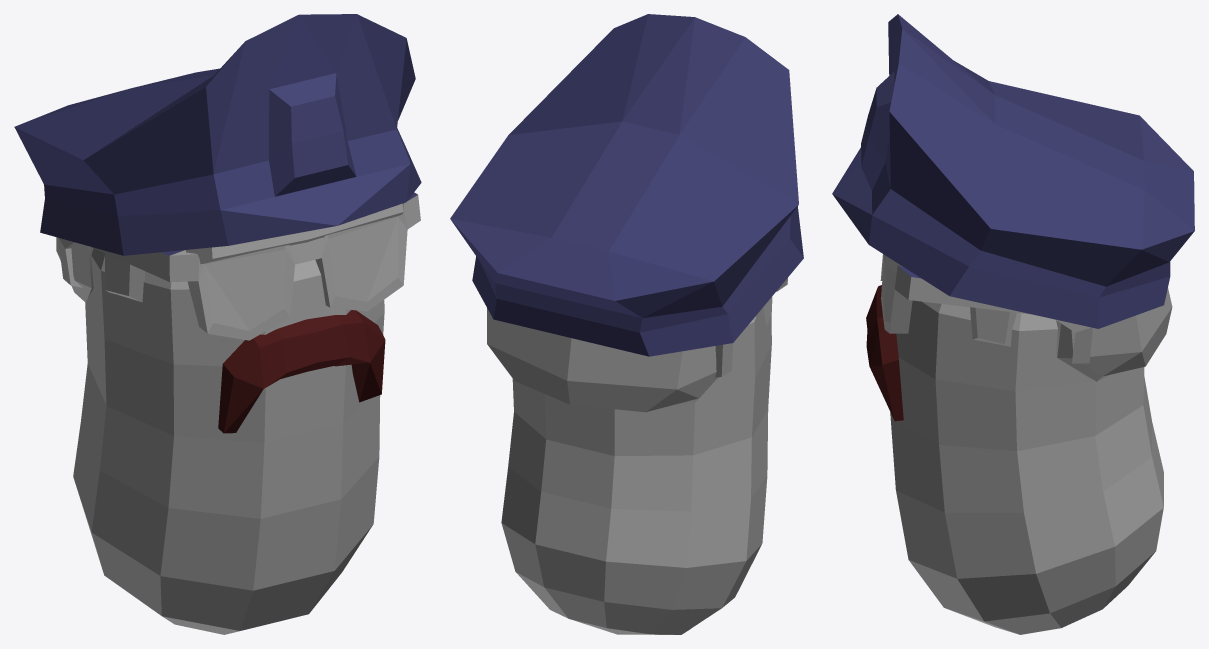
The model's file is cop.fbx.
The picture shows the model from 3 angles, left to right: view 1: azimuth 30°, elevation 25°; view 2: azimuth 150°, elevation 25°; view 3: azimuth 270°, elevation 25°; orthographic projection. The views are drawn at different scales.
Visible parts, largest first — view 1: CapsuleCop; view 2: CapsuleCop; view 3: CapsuleCop.
Part boxes in pixels (x1=…): CapsuleCop: x1=14, y1=14, x2=421, y2=634; CapsuleCop: x1=450, y1=14, x2=803, y2=634; CapsuleCop: x1=832, y1=14, x2=1194, y2=634.
Size of the model in its own units: 114 by 212 by 118.
